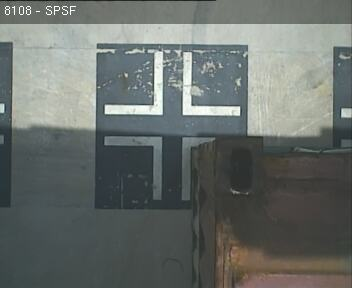groundmarker_1: (104, 51, 240, 115), (103, 137, 212, 201)
